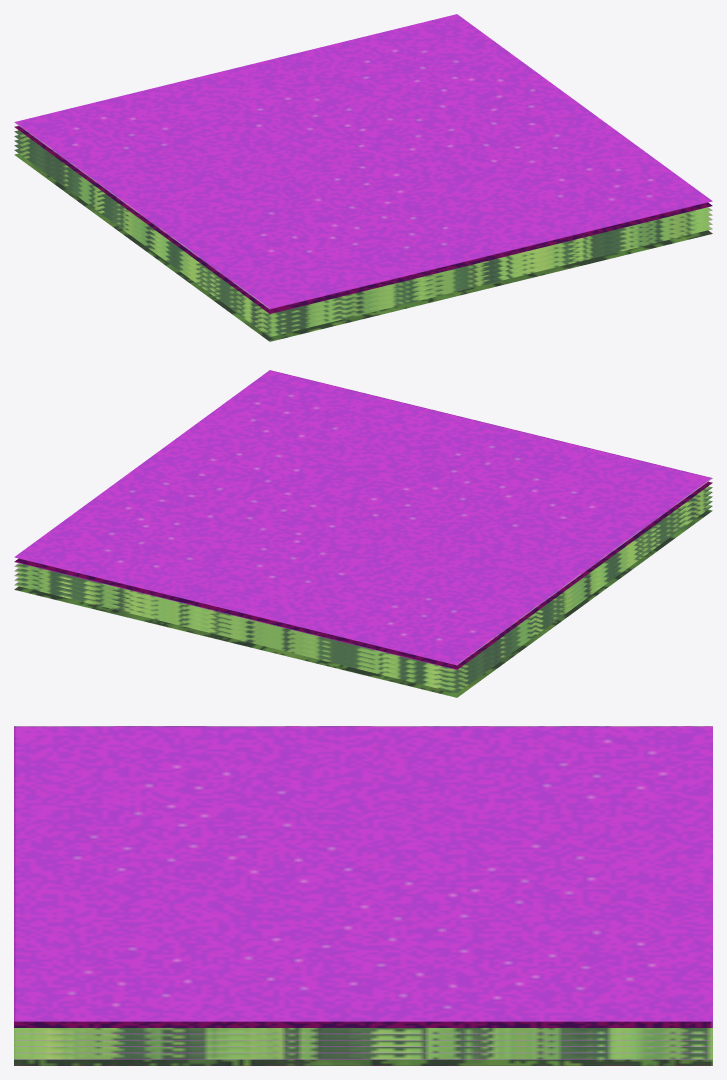
File: knikkendedistel.fbx
3 renders of one model, top to bottom at view 1: azimuth 30°, elevation 25°; view 2: azimuth 150°, elevation 25°; view 3: azimuth 270°, elevation 25°, orthographic. The views are drawn at different scales.
Parts seen in each view (by area): view 1: knikkendedistel; view 2: knikkendedistel; view 3: knikkendedistel.
Boxes of the visible parts, box(x1,y1,x2,y2) form: knikkendedistel: box(14, 14, 712, 341); knikkendedistel: box(14, 370, 712, 697); knikkendedistel: box(14, 726, 712, 1065).
Size of the model in its own units: 480 by 33.6 by 480.
Materials: 1 (1 with a texture image).
